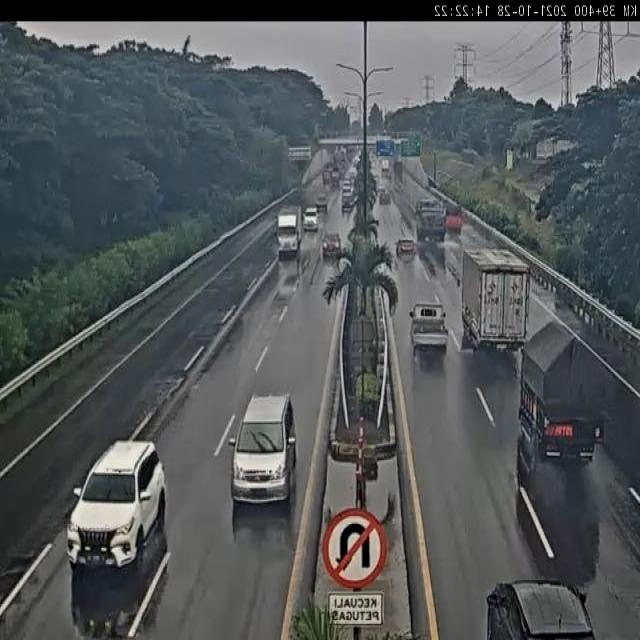Car: (67, 439, 170, 572), (485, 575, 600, 640), (322, 233, 344, 258), (397, 239, 418, 262), (315, 192, 328, 214)
Truck: (511, 321, 611, 469), (455, 245, 532, 355), (408, 304, 448, 356), (275, 203, 304, 257), (413, 198, 448, 242)
Van: (229, 393, 300, 508)
